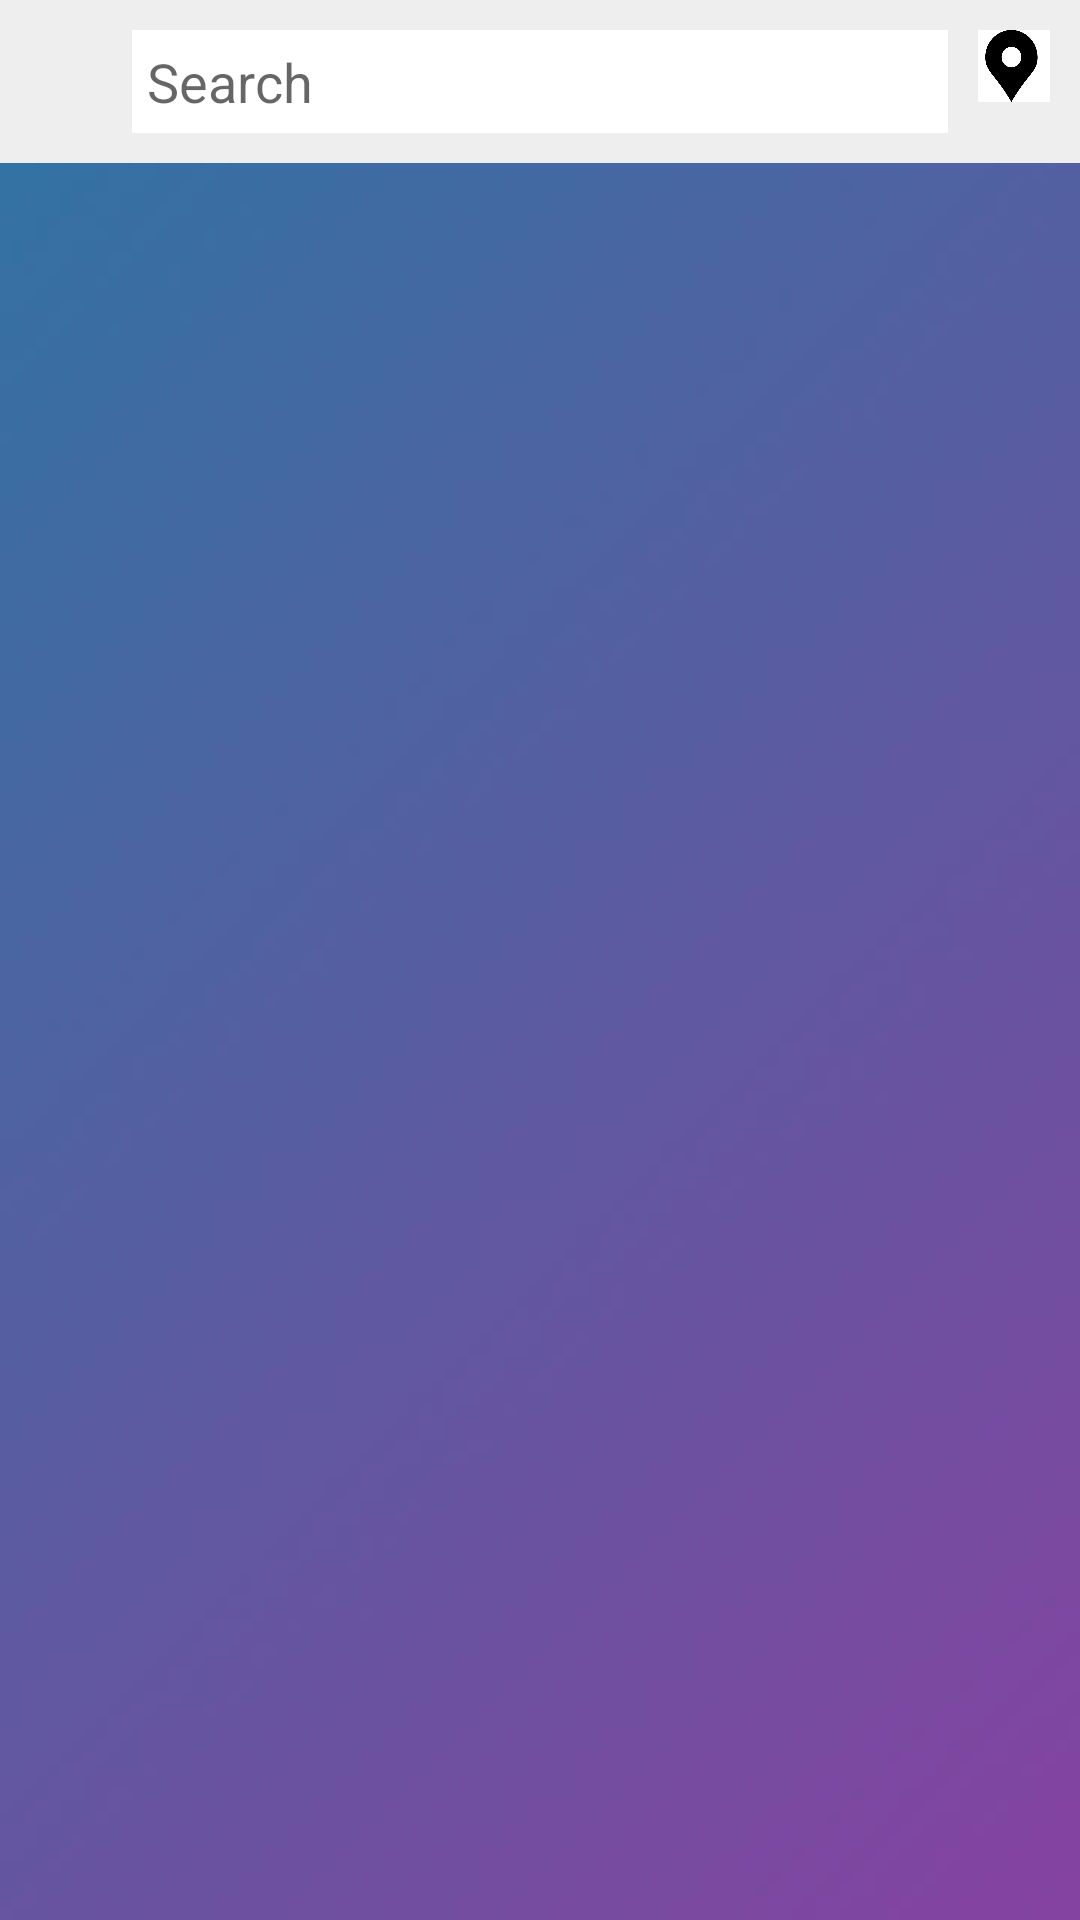

Screen size 1080w x 1920h. Icon name, then its box in pixels as (x1, y1, x2, y2):
Location Icon: (985, 30, 1038, 102)
